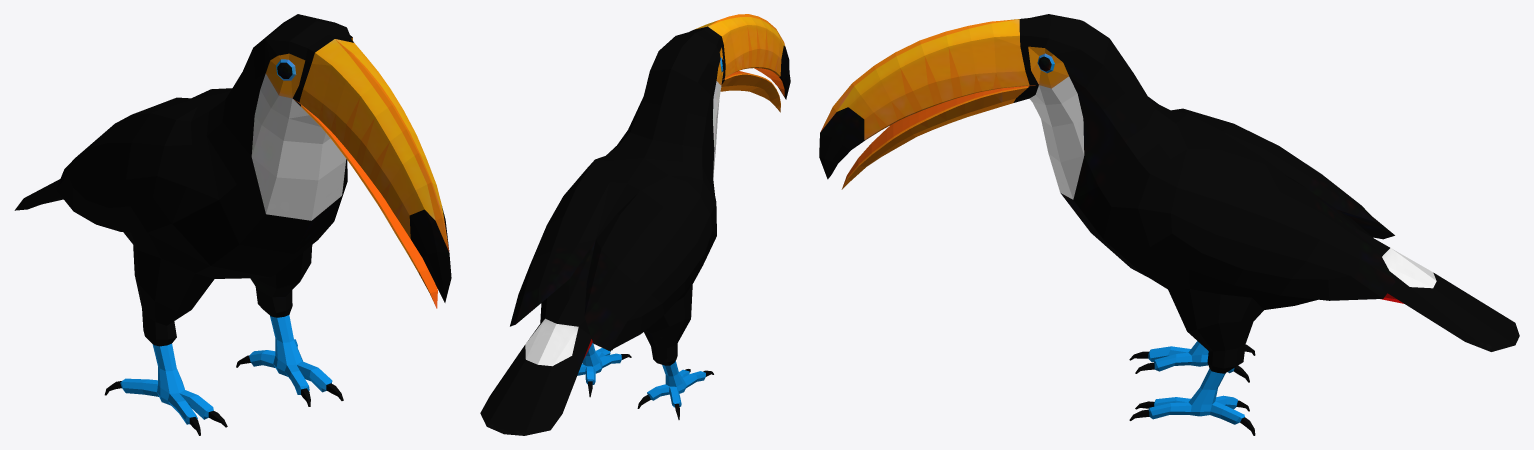
File: tuka.glb
3 views of the same model, side by side, from view 1: azimuth 30°, elevation 25°; view 2: azimuth 150°, elevation 25°; view 3: azimuth 270°, elevation 25° (orthographic). The views are drawn at different scales.
Visible parts, largest first — view 1: TocoToucan; view 2: TocoToucan; view 3: TocoToucan.
Part boxes in pixels (left/top/right/bottom): TocoToucan: left=14, top=14, right=451, bottom=435; TocoToucan: left=480, top=14, right=790, bottom=435; TocoToucan: left=819, top=14, right=1519, bottom=435.
Bounding box in the file's own units: 0.1815 × 0.3802 × 0.6334.
Materials: 1 (1 with a texture image).
